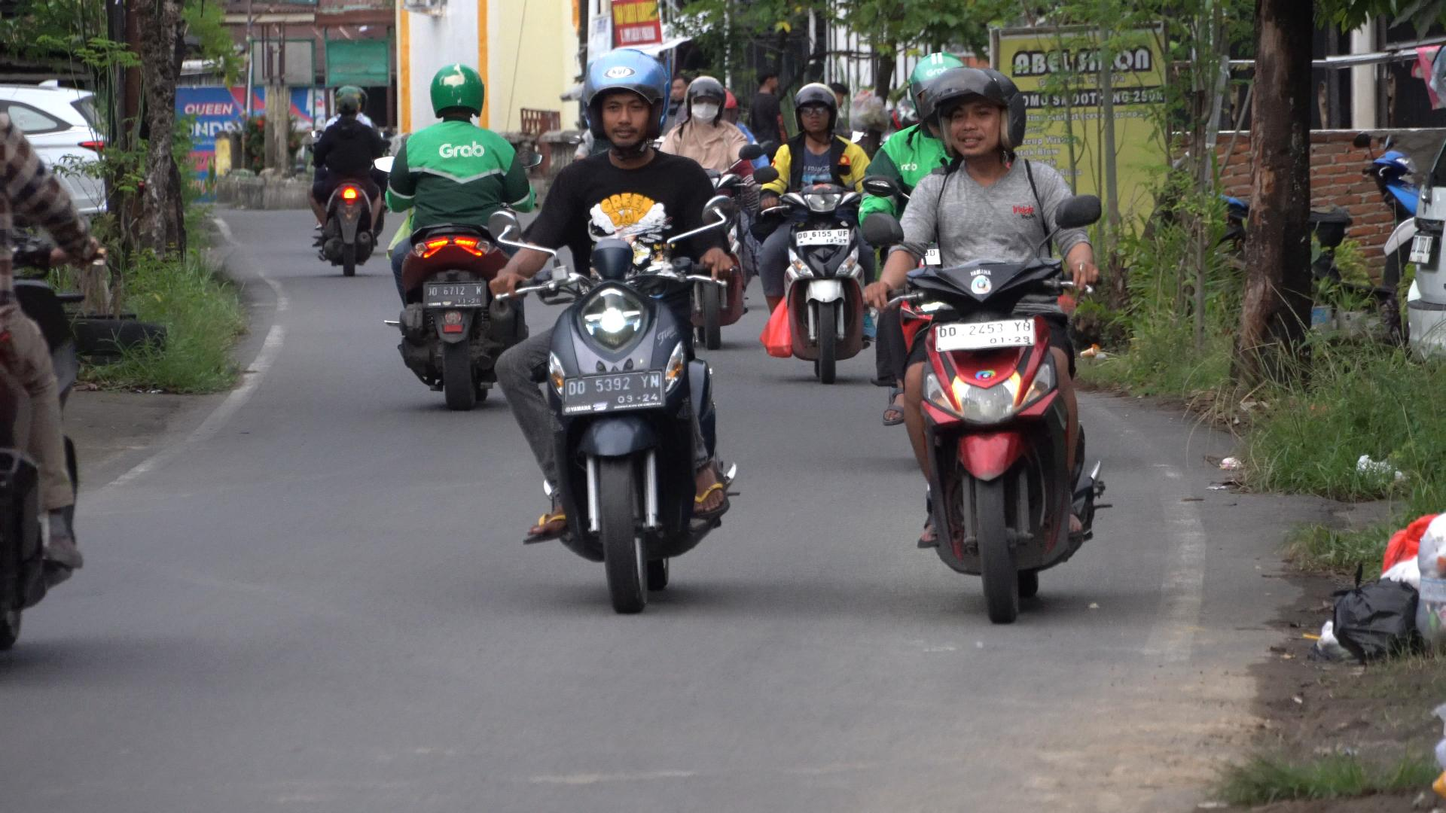number-plate: (557, 365, 667, 418), (928, 321, 1038, 353), (791, 224, 853, 250)
